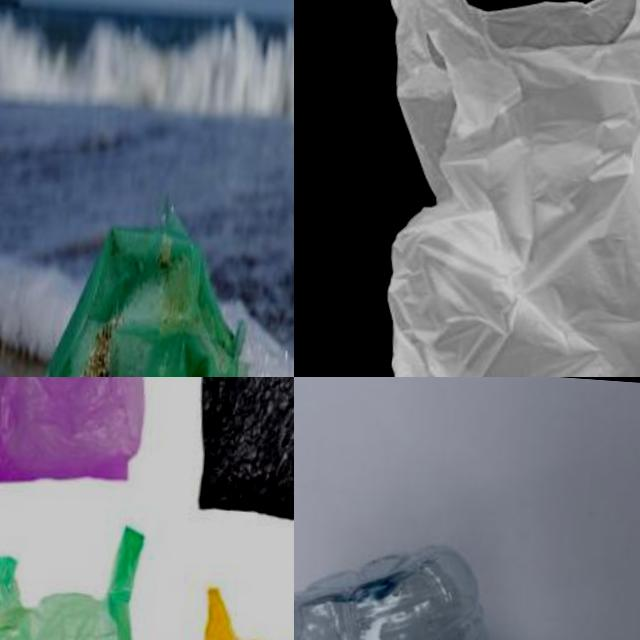garrafa plástica: (294, 532, 601, 640)
sacola plástica: (332, 0, 640, 377), (0, 204, 261, 377), (0, 377, 172, 507), (0, 509, 155, 640), (175, 377, 294, 533), (160, 540, 294, 640)
